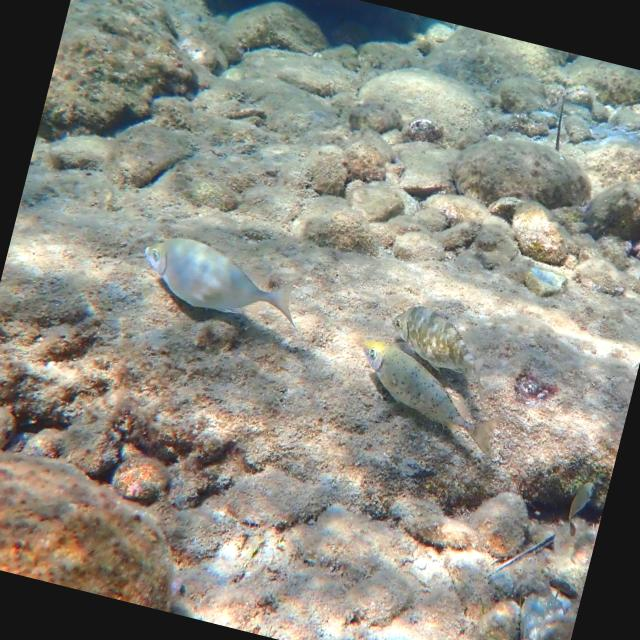Sokar Baligi: (126, 219, 314, 347), (340, 330, 500, 459)
